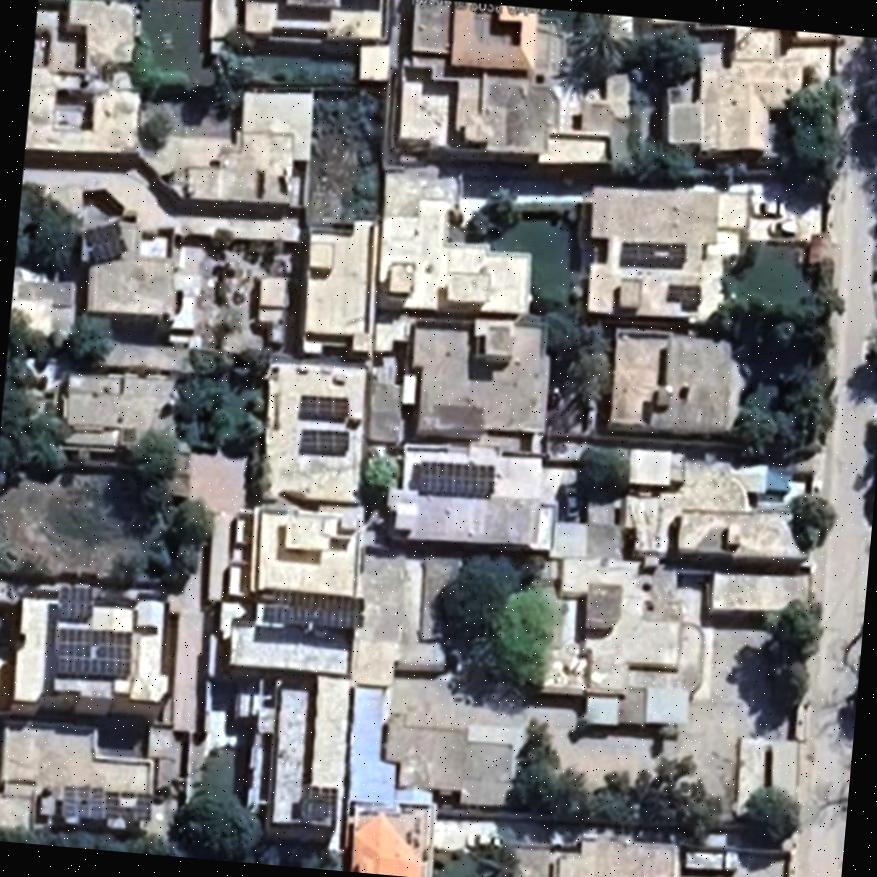Solarpanel: (53, 625, 130, 677), (263, 590, 363, 628), (57, 781, 147, 822), (411, 460, 493, 497), (82, 221, 125, 263), (298, 429, 346, 453), (619, 243, 686, 259), (63, 579, 87, 617), (304, 395, 345, 414)
